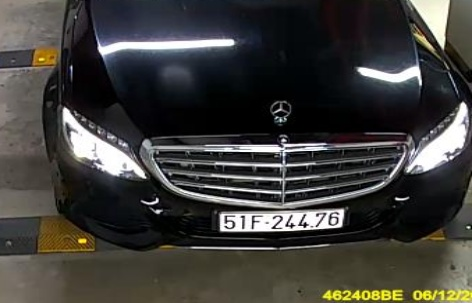plate: (213, 206, 354, 236)
